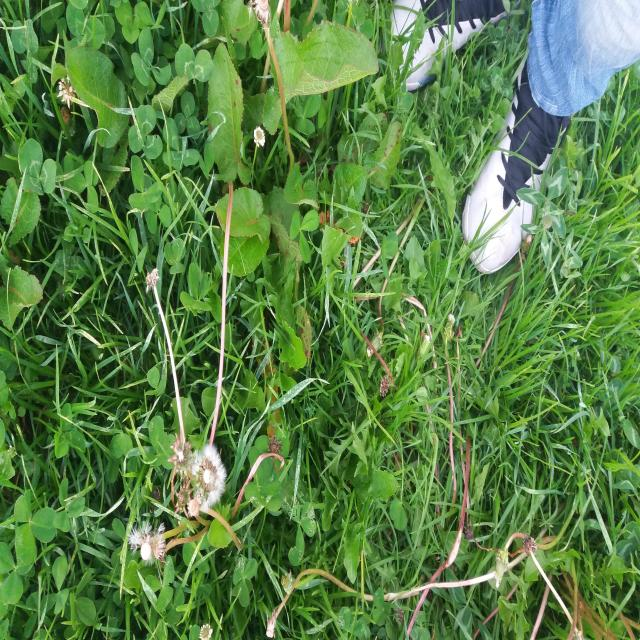Four Leaf Clover: (255, 245, 305, 322), (412, 375, 456, 442), (392, 311, 435, 370), (307, 298, 346, 353), (179, 262, 212, 317)
